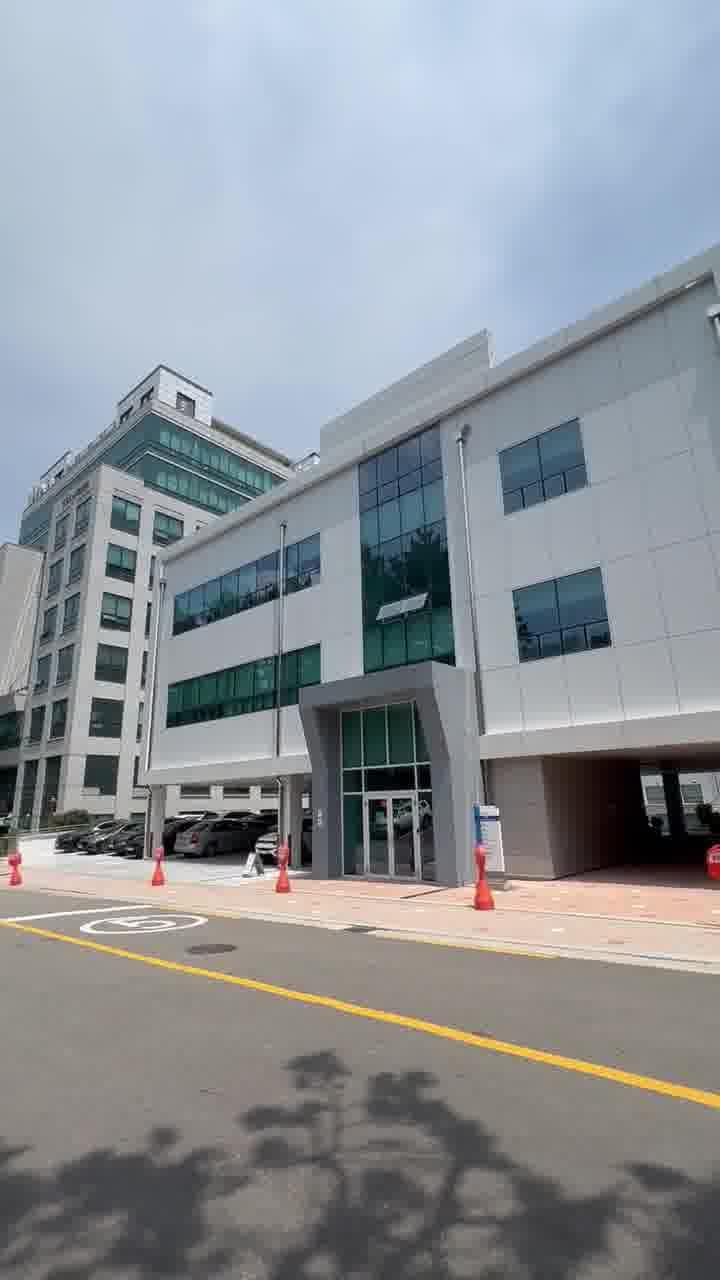building: (150, 320, 720, 872), (25, 390, 161, 802)
